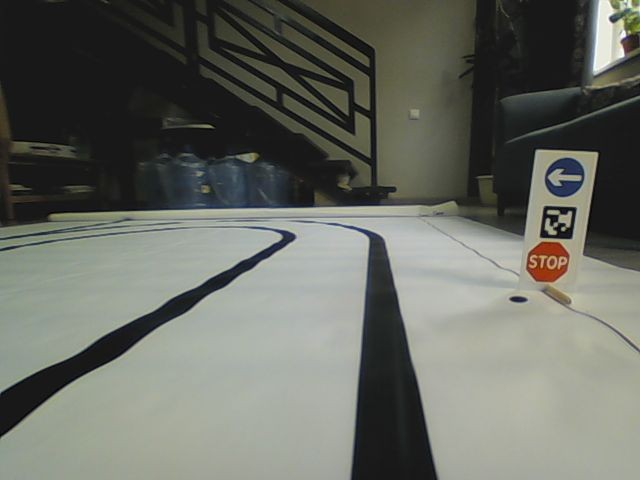Stop: (526, 241, 569, 282)
